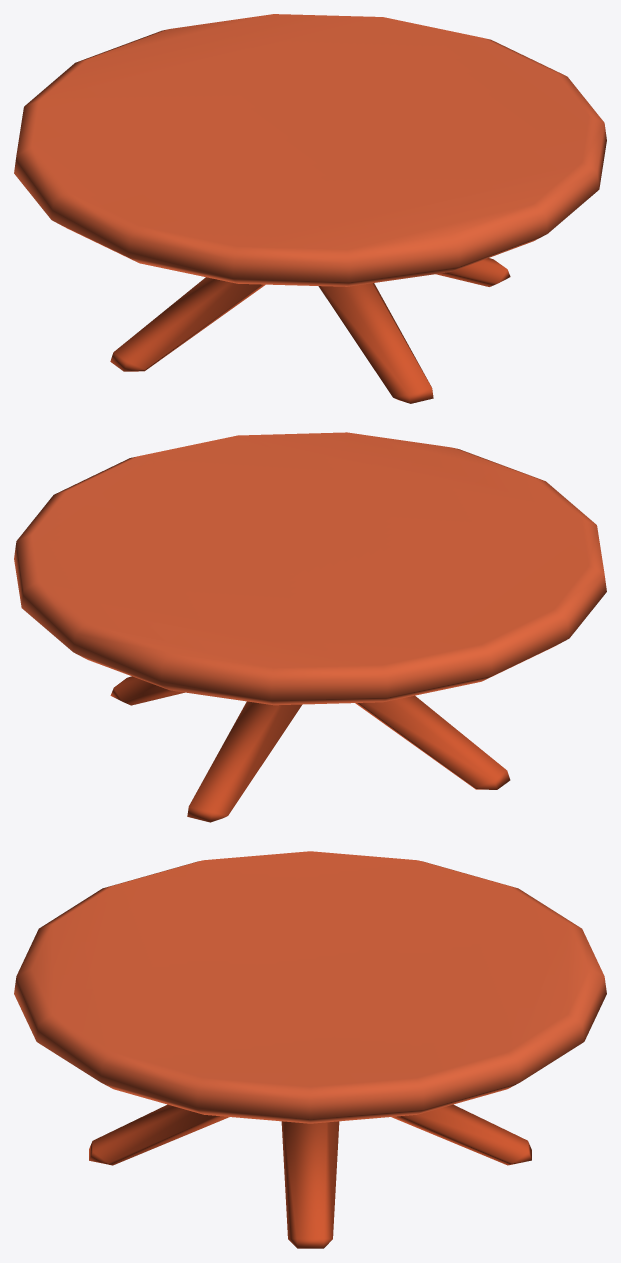
File: Furniture_Table_01.fbx
The picture shows the model from 3 angles, top to bottom: view 1: azimuth 30°, elevation 25°; view 2: azimuth 150°, elevation 25°; view 3: azimuth 270°, elevation 25°; orthographic projection.
Parts seen in each view (by area): view 1: Furniture_Table_01; view 2: Furniture_Table_01; view 3: Furniture_Table_01.
Part boxes in pixels (x1,y1,x2,y2): Furniture_Table_01: [14, 14, 606, 403]; Furniture_Table_01: [14, 432, 606, 822]; Furniture_Table_01: [14, 851, 606, 1248].
Bounding box in the file's own units: 250 × 88.9 × 250.
